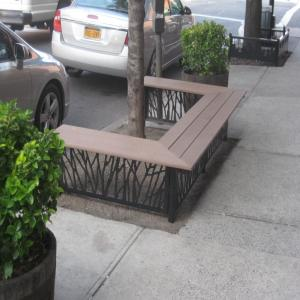Vehicle-registration-plate: (85, 25, 102, 40)
